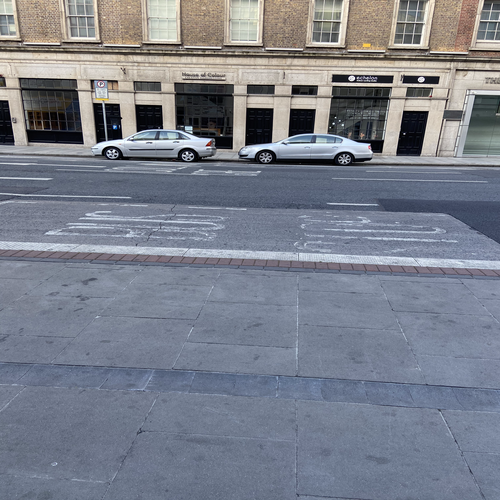Car: (236, 131, 375, 165), (91, 129, 217, 164)
